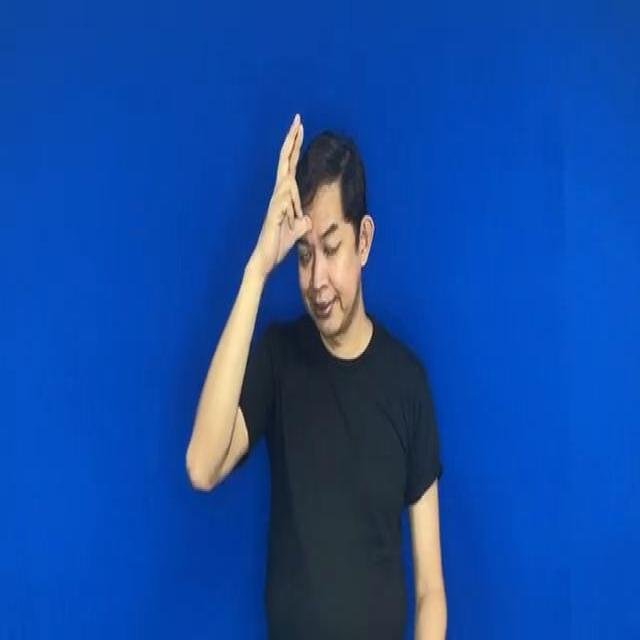chicken: (258, 107, 316, 257)
